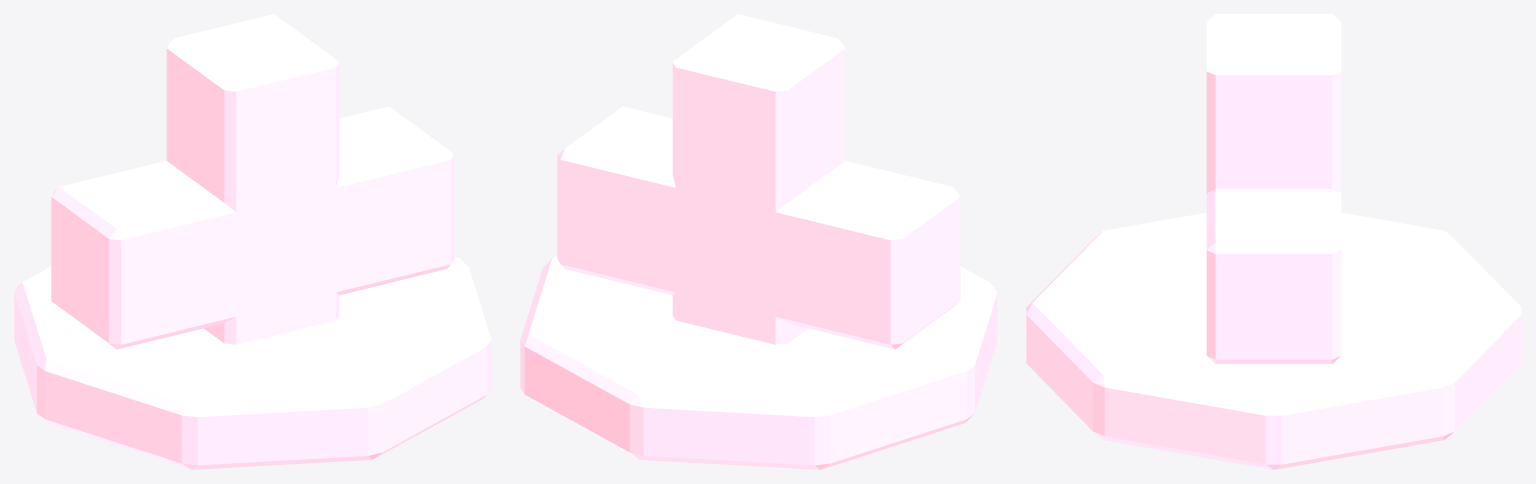
The model's file is Pickup_Health.fbx.
3 renders of one model, left to right at view 1: azimuth 30°, elevation 25°; view 2: azimuth 150°, elevation 25°; view 3: azimuth 270°, elevation 25°, orthographic.
Parts seen in each view (by area): view 1: Pickup_Health; view 2: Pickup_Health; view 3: Pickup_Health.
Part boxes in pixels (box(x1,y1,x2,y2)): Pickup_Health: box(14, 14, 491, 469); Pickup_Health: box(520, 14, 997, 469); Pickup_Health: box(1026, 14, 1521, 469).
Bounding box in the file's own units: 0.5523 × 0.45 × 0.5523.
